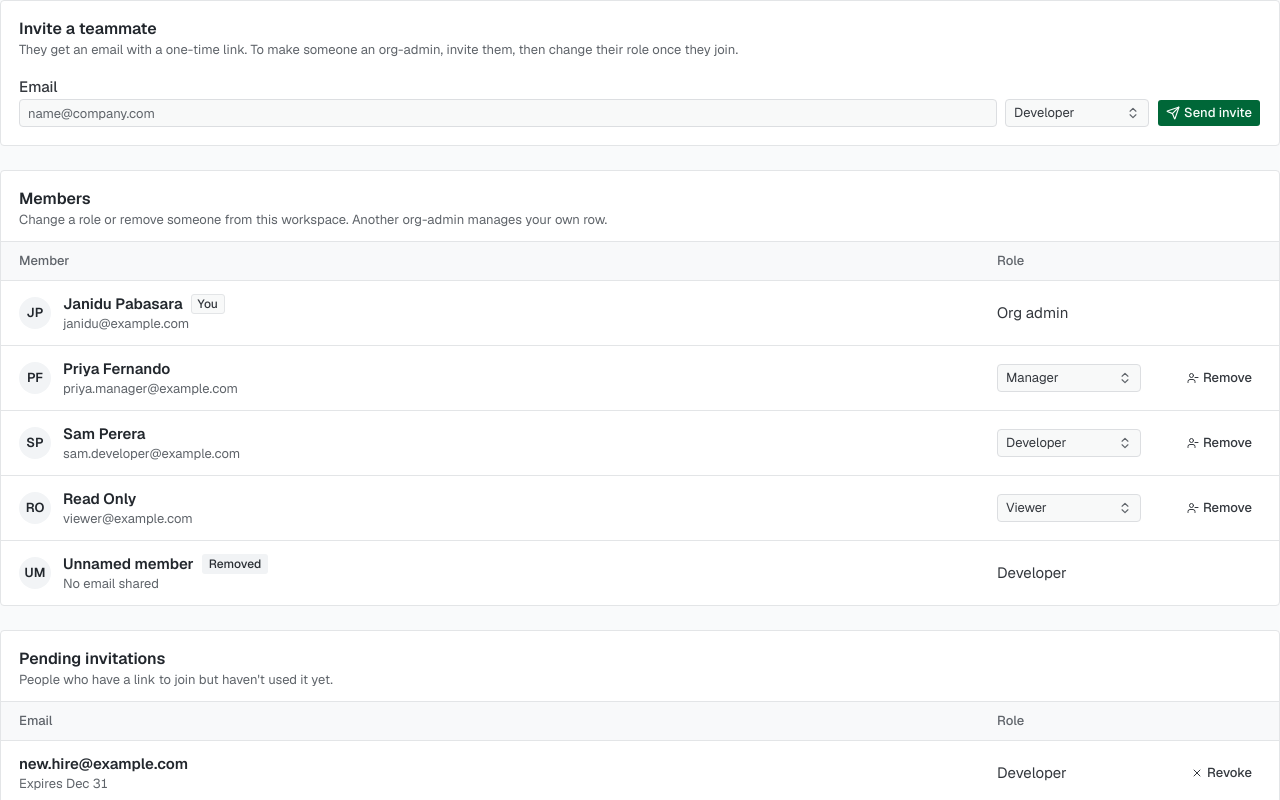
Test: the invitation role picker never offers org-admin
The width and height of the screenshot is (1280, 800).
What coordinates should you click on to do the following:
click the dropdown named "Invite as role"
I would click on:
 (1077, 113)
Its box is 1005,99 -> 1149,127.
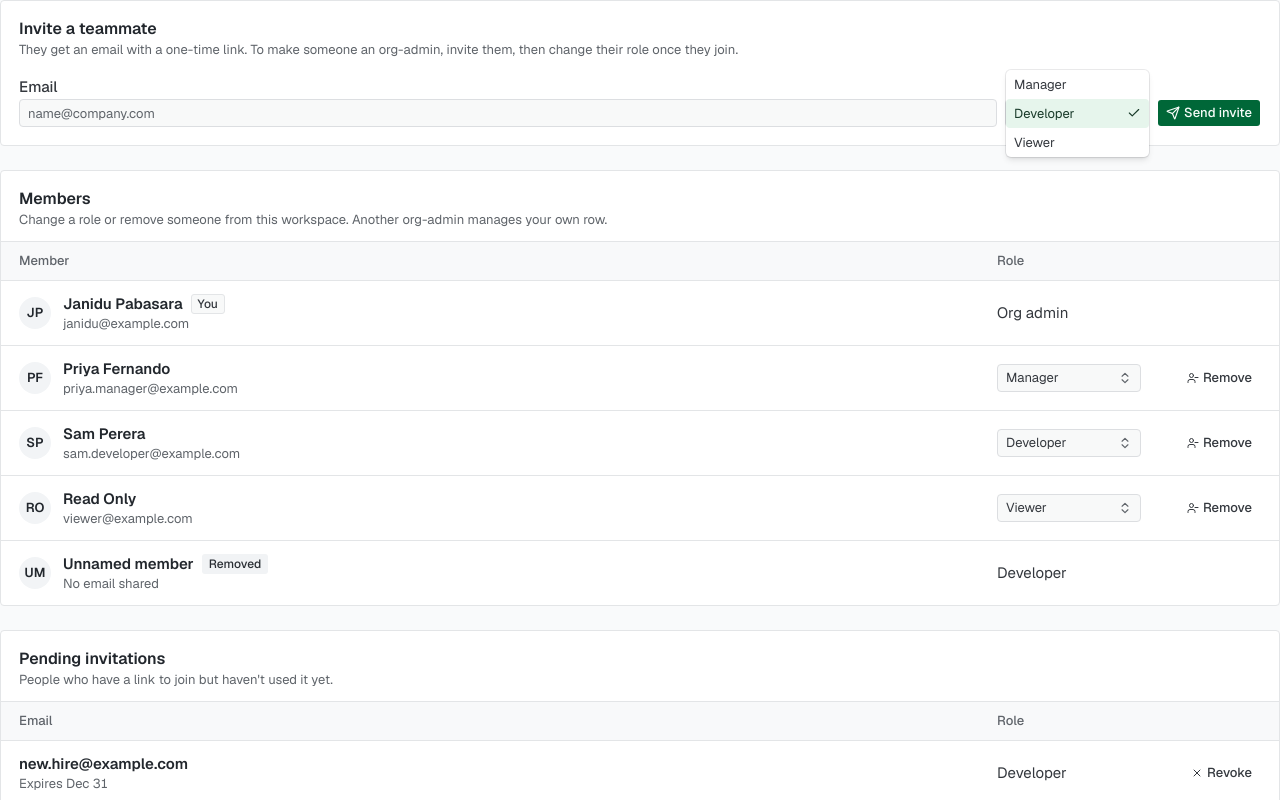
expect the options read "Manager", "Developer", "Viewer", in this order: met, box 1014,76 -> 1067,92; 1006,99 -> 1149,128; 1014,134 -> 1055,151
